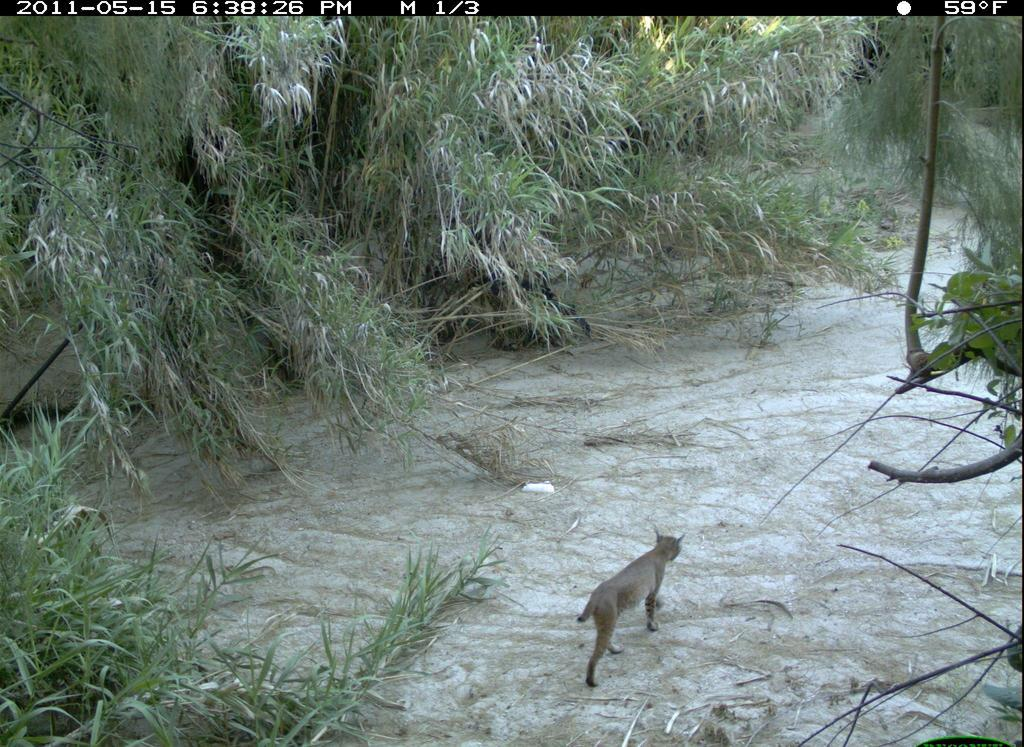bobcat: (561, 521, 687, 707)
